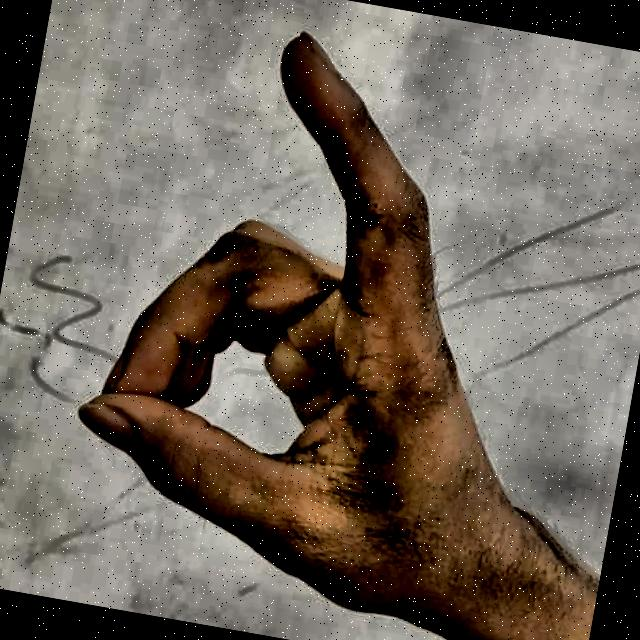Dha: (33, 0, 601, 640)
